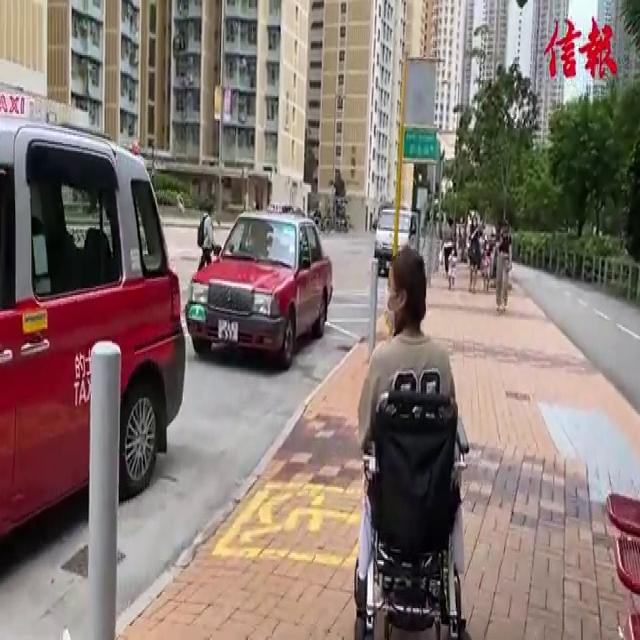wheelchairs: (346, 370, 490, 640)
